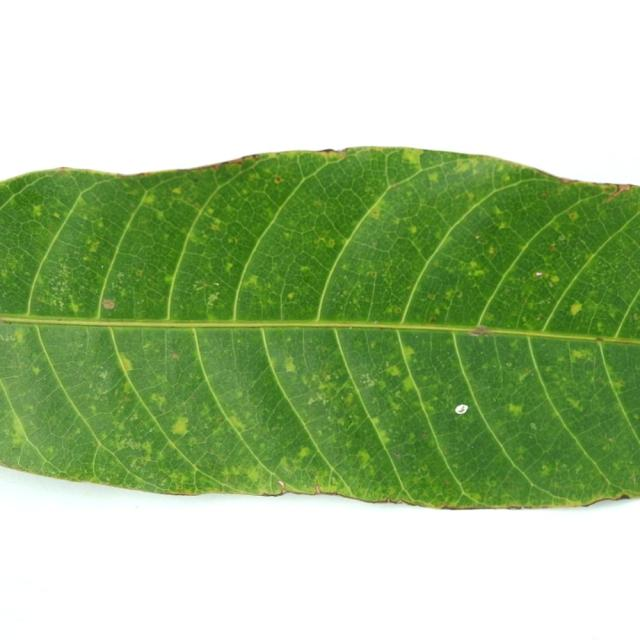Mango: (0, 148, 639, 507)
Powdery_Mildew: (538, 234, 601, 277), (42, 263, 83, 309), (518, 282, 559, 316), (190, 278, 225, 309), (84, 361, 114, 396), (453, 253, 489, 280), (321, 233, 341, 257), (398, 148, 425, 165), (533, 270, 559, 286), (316, 379, 339, 397), (117, 436, 145, 450), (170, 416, 190, 435), (226, 414, 246, 431), (312, 235, 336, 249), (570, 347, 592, 361), (374, 429, 391, 447), (117, 352, 132, 372), (355, 450, 371, 468), (10, 428, 25, 447), (307, 392, 327, 406), (359, 373, 376, 389), (244, 467, 261, 483), (400, 344, 416, 360), (401, 376, 416, 392), (283, 355, 297, 372), (507, 402, 524, 416), (150, 393, 166, 407), (517, 369, 533, 383), (566, 397, 583, 410), (13, 327, 26, 344), (386, 364, 402, 377), (298, 446, 312, 460), (570, 301, 583, 316), (193, 282, 214, 291), (245, 274, 259, 287), (87, 239, 100, 252), (142, 193, 156, 205), (612, 379, 626, 390), (427, 171, 439, 183), (492, 205, 504, 217), (31, 204, 42, 217), (102, 299, 115, 310), (468, 491, 482, 501), (444, 290, 456, 301), (370, 416, 381, 427), (384, 305, 396, 315), (210, 221, 221, 231), (568, 211, 579, 221), (497, 221, 509, 230), (345, 415, 354, 427), (370, 208, 380, 218), (483, 312, 494, 321), (155, 209, 164, 220), (609, 309, 620, 318), (99, 370, 109, 379), (164, 275, 174, 284), (32, 365, 41, 375), (171, 187, 182, 195), (408, 225, 417, 234), (224, 262, 233, 271), (596, 322, 605, 331), (300, 265, 310, 272), (558, 234, 566, 242), (530, 422, 537, 431), (549, 246, 558, 253), (287, 292, 295, 299), (368, 271, 376, 278), (488, 247, 495, 255), (206, 208, 214, 215), (171, 353, 179, 360), (274, 176, 282, 183), (136, 269, 143, 276), (53, 212, 60, 219), (391, 182, 399, 188), (117, 272, 124, 278), (395, 308, 402, 314), (395, 390, 401, 397), (608, 436, 615, 442), (429, 317, 436, 323), (94, 441, 100, 447), (394, 452, 401, 457), (190, 395, 196, 400), (541, 192, 547, 197)
